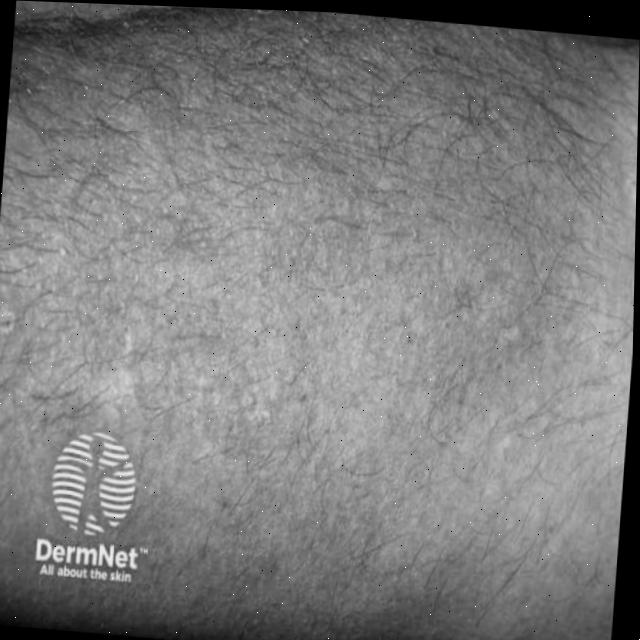Eczema: (29, 48, 619, 522)
